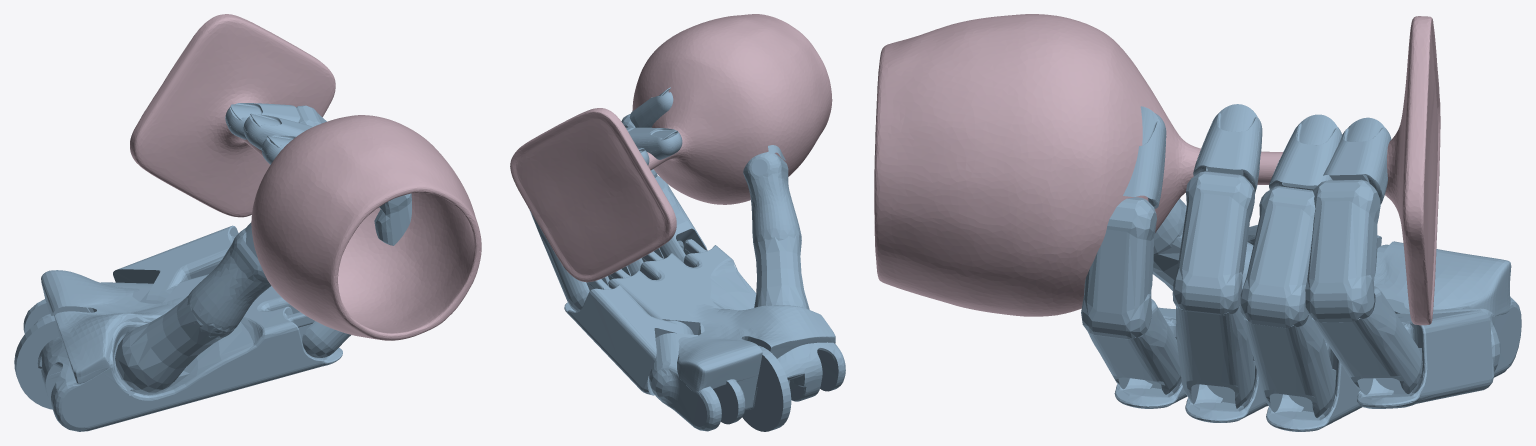
3 views of the same model, side by side, from view 1: azimuth 30°, elevation 25°; view 2: azimuth 150°, elevation 25°; view 3: azimuth 270°, elevation 25° (orthographic). The views are drawn at different scales.
Visible parts, largest first — view 1: obj_mesh_grasp_10.obj, world; view 2: obj_mesh_grasp_10.obj, world; view 3: world, obj_mesh_grasp_10.obj.
Boxes of the visible parts, x1,y1,x2,y2 form: obj_mesh_grasp_10.obj: [130, 14, 481, 340]; world: [14, 103, 411, 431]; obj_mesh_grasp_10.obj: [510, 14, 832, 282]; world: [529, 87, 845, 431]; world: [1081, 104, 1521, 431]; obj_mesh_grasp_10.obj: [874, 14, 1440, 325].
Size of the model in its own units: 0.1491 by 0.1437 by 0.1758.
